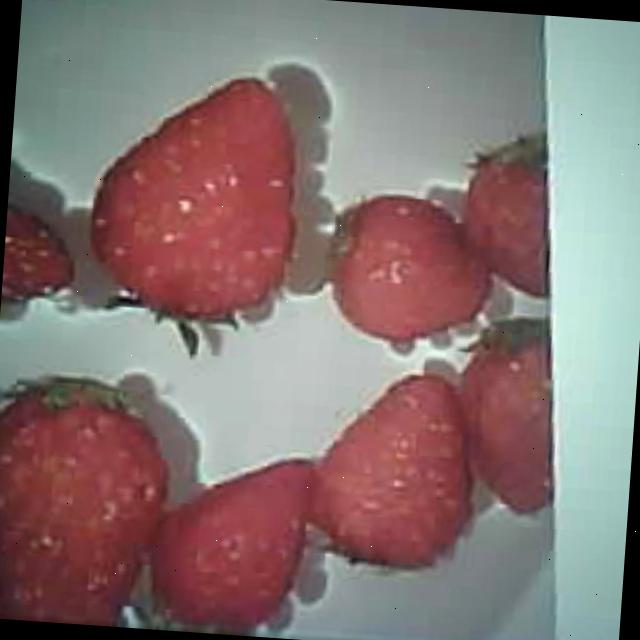strawberry: (85, 70, 303, 326), (0, 383, 169, 611), (306, 368, 479, 573), (152, 443, 318, 639)
